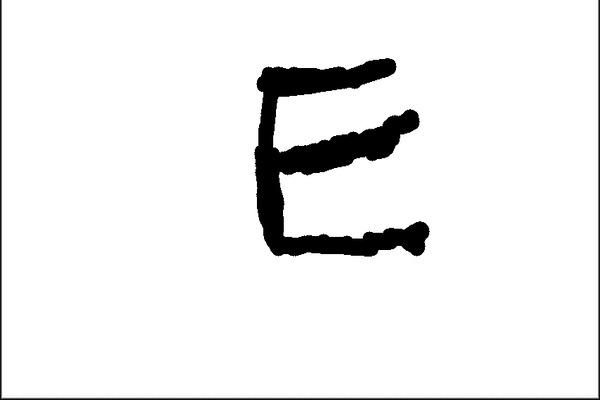E: (247, 53, 434, 261)
